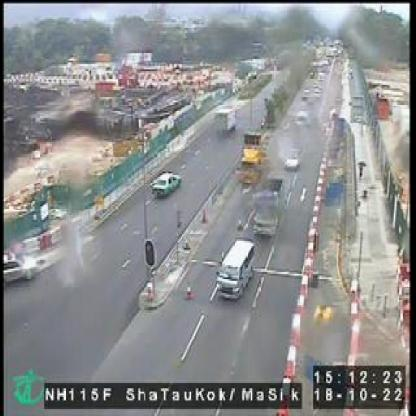Car: (215, 238, 256, 300), (152, 172, 182, 197), (285, 147, 300, 171), (294, 110, 310, 129)
Truck: (252, 181, 283, 239), (239, 128, 267, 186), (214, 104, 236, 135)
